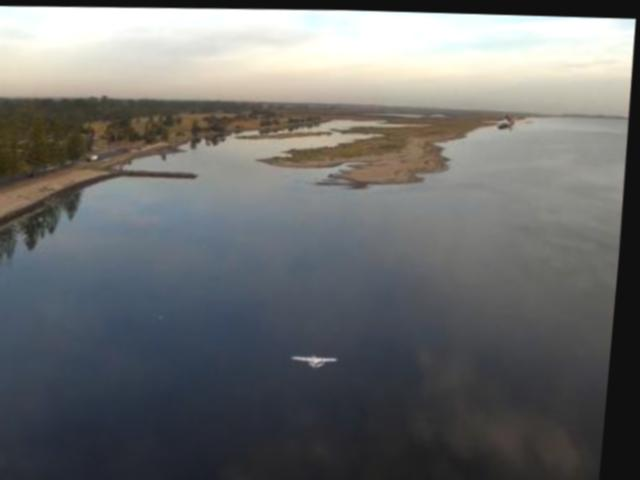uav: (297, 346, 347, 370)
